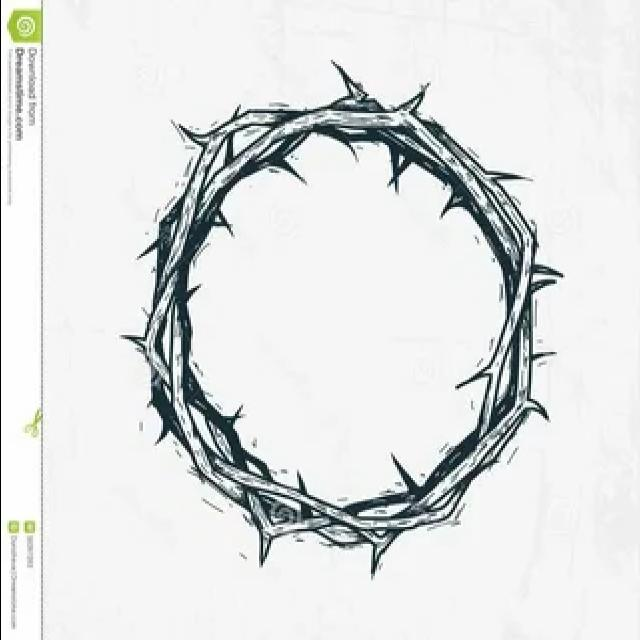crown: (112, 75, 572, 576)
